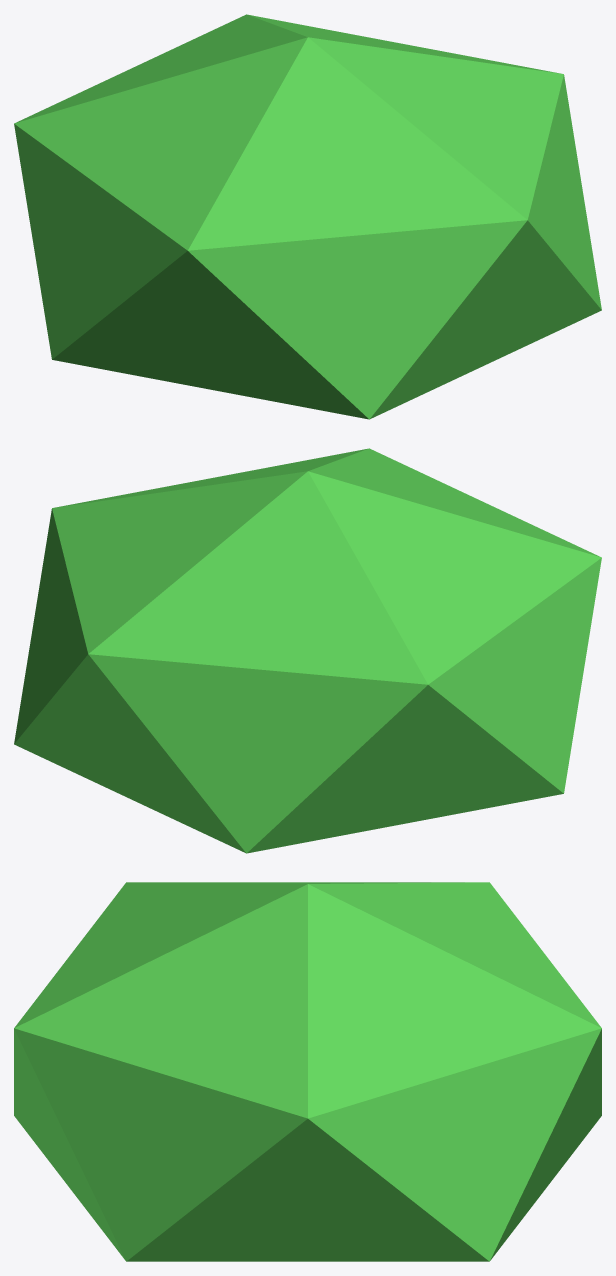
The model's file is find_ammonite.fbx.
The picture shows the model from 3 angles, top to bottom: view 1: azimuth 30°, elevation 25°; view 2: azimuth 150°, elevation 25°; view 3: azimuth 270°, elevation 25°; orthographic projection. The views are drawn at different scales.
Visible parts, largest first — view 1: find_ammonite; view 2: find_ammonite; view 3: find_ammonite.
Boxes of the visible parts, <box> form: find_ammonite: <box>14,14,601,419</box>; find_ammonite: <box>14,448,601,853</box>; find_ammonite: <box>14,882,601,1261</box>.
Bounding box in the file's own units: 1.79 × 1.2 × 1.7.
